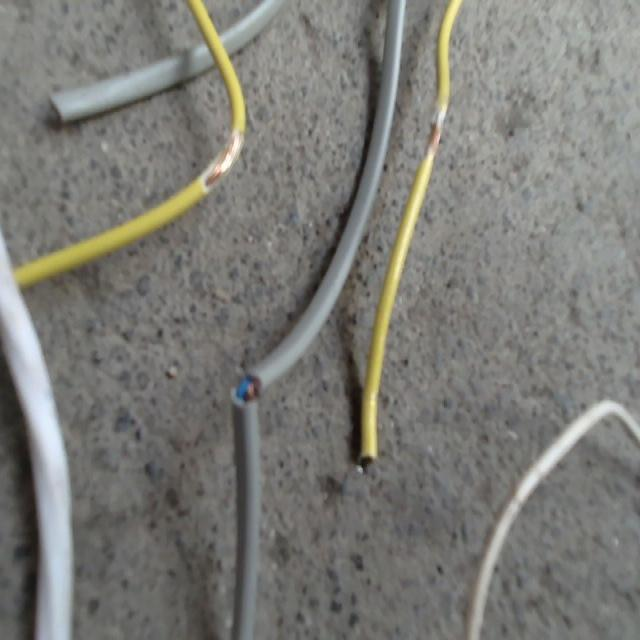-: (204, 128, 242, 192), (421, 99, 446, 164), (231, 369, 262, 407)
